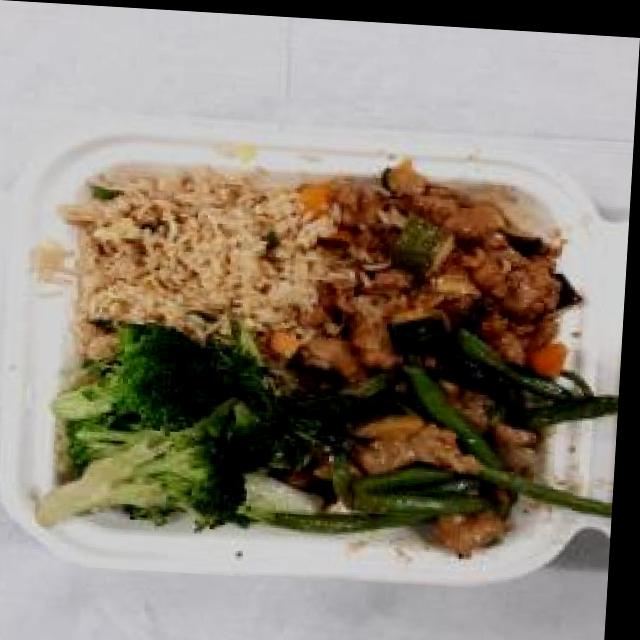Fried Rice: (57, 156, 311, 348)
Kung Pao Chicken: (291, 154, 586, 388)
String Bean Chicken Breast: (313, 336, 625, 555)
Super Greens: (48, 323, 315, 540)
